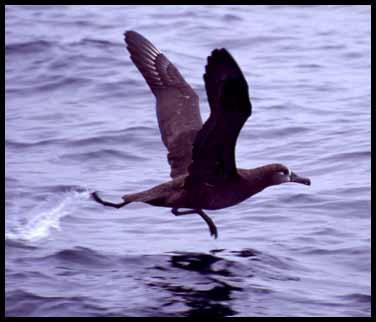001.Black_footed_Albatross: (91, 29, 314, 240)
